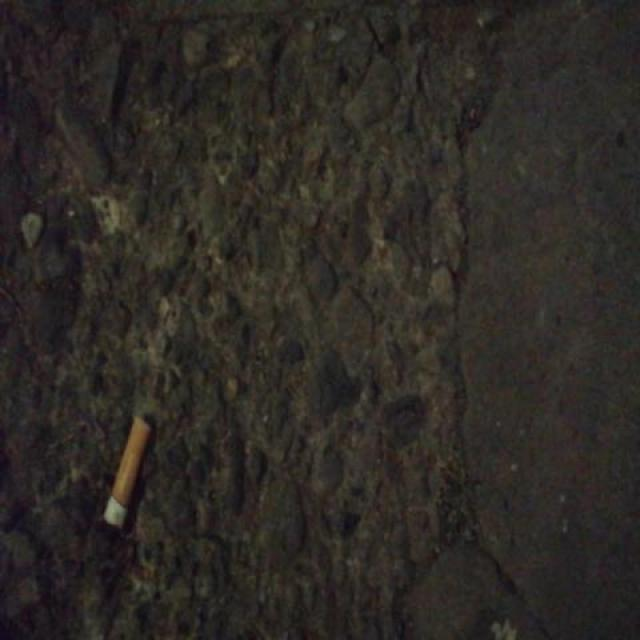non-organic waste: (98, 410, 154, 534)
